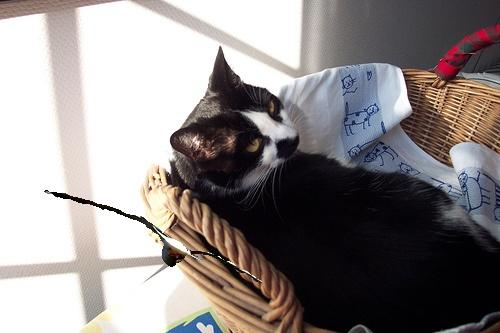tampered: (45, 191, 262, 283)
